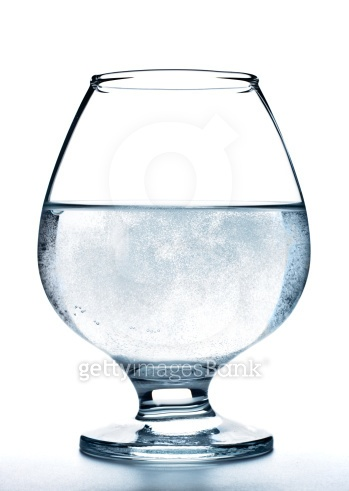glass of water: (32, 60, 312, 472)
